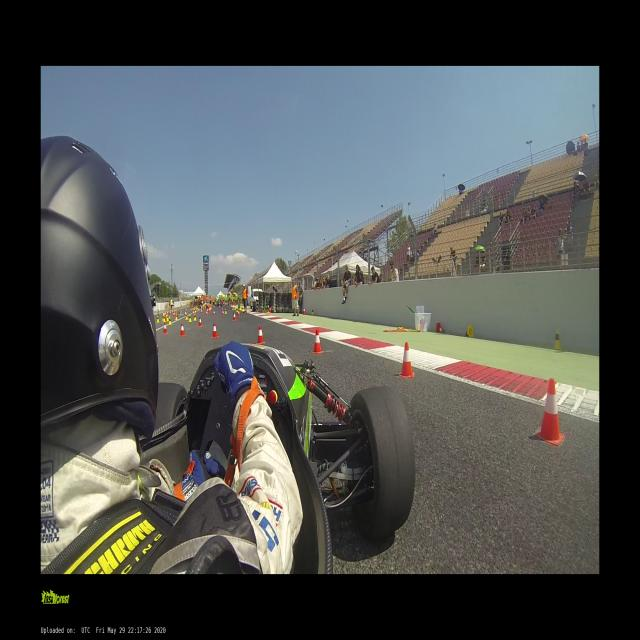orange_cone: (534, 379, 565, 445), (399, 342, 414, 378), (312, 329, 322, 354), (257, 325, 265, 344), (211, 323, 218, 337), (179, 323, 186, 336), (436, 323, 444, 333), (162, 323, 168, 334), (198, 317, 202, 328), (232, 313, 237, 321), (302, 307, 306, 315), (221, 309, 224, 316), (212, 310, 215, 316), (269, 306, 271, 313), (238, 310, 240, 316), (206, 311, 207, 316)
yellow_cone: (553, 330, 561, 349), (464, 326, 474, 338), (168, 316, 172, 324), (188, 314, 192, 322), (193, 313, 196, 321), (311, 308, 314, 316), (156, 316, 159, 322), (185, 314, 188, 320), (166, 315, 169, 321), (224, 309, 227, 313), (175, 314, 177, 320), (163, 316, 165, 322)
